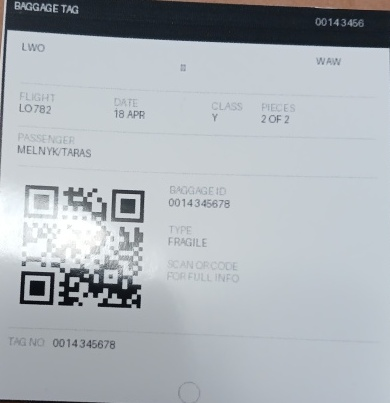LPN_bottom: (48, 333, 117, 352)
LPN_right: (165, 194, 234, 211)
